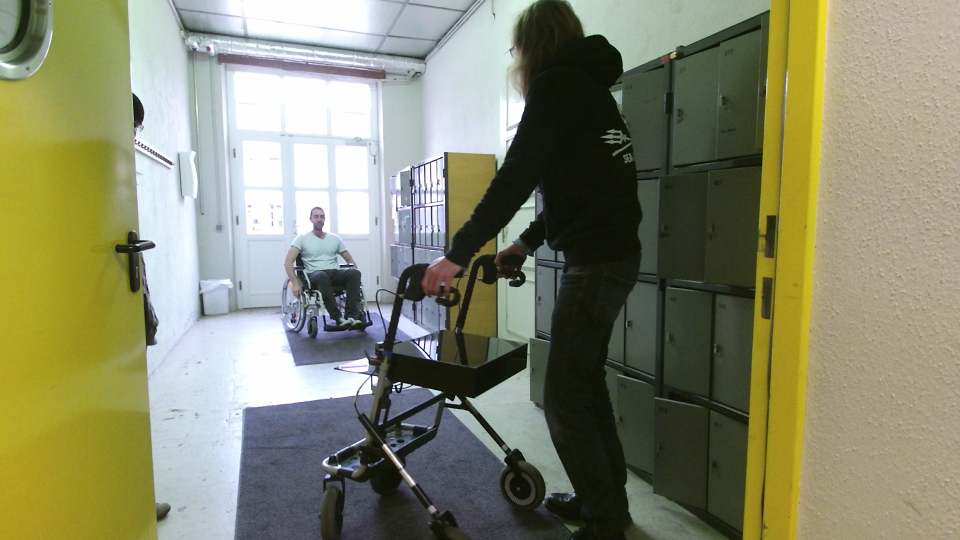wheelchair: (275, 202, 376, 341)
